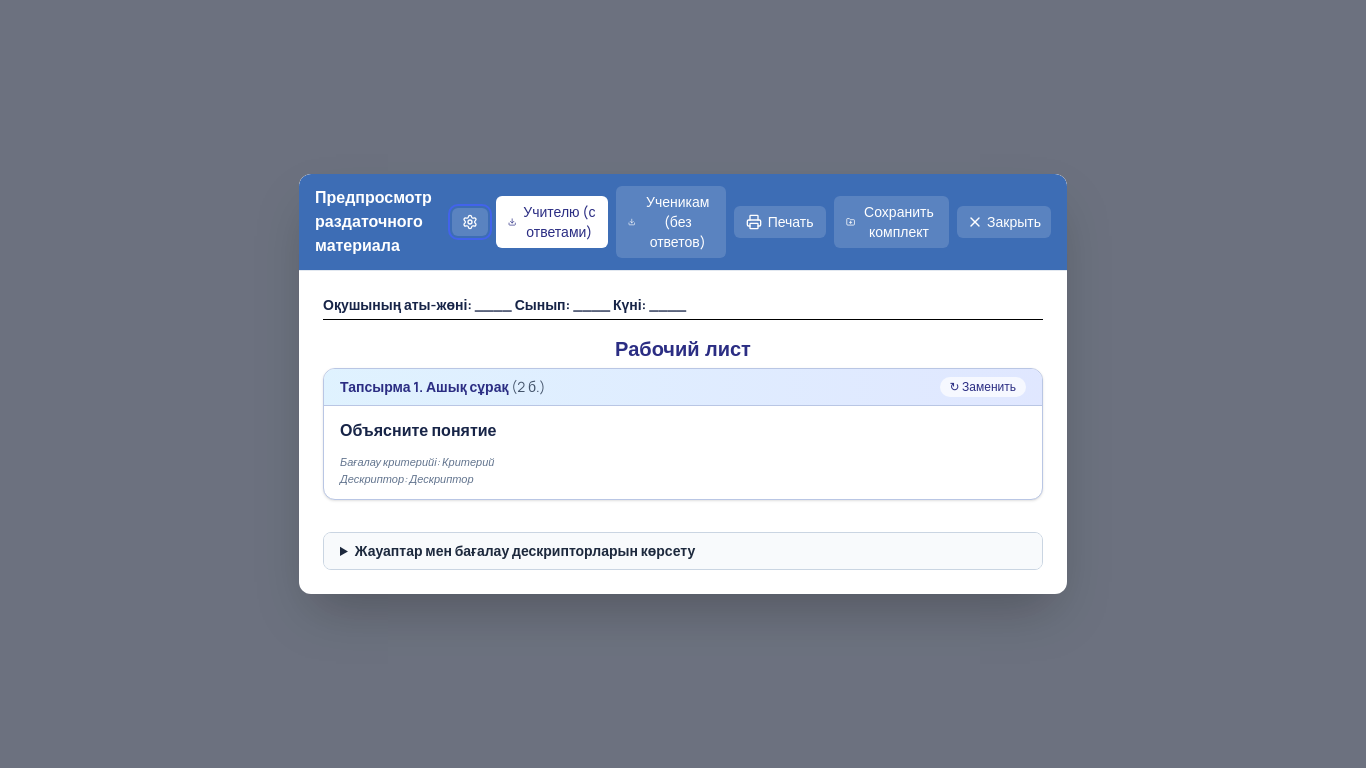
Test: настройки предпросмотра › казахский материал получает казахские подписи настроек
This screenshot has width=1366, height=768.
Click the button titled "Параметрлер": (470, 222) x1=452 y1=208 x2=488 y2=236
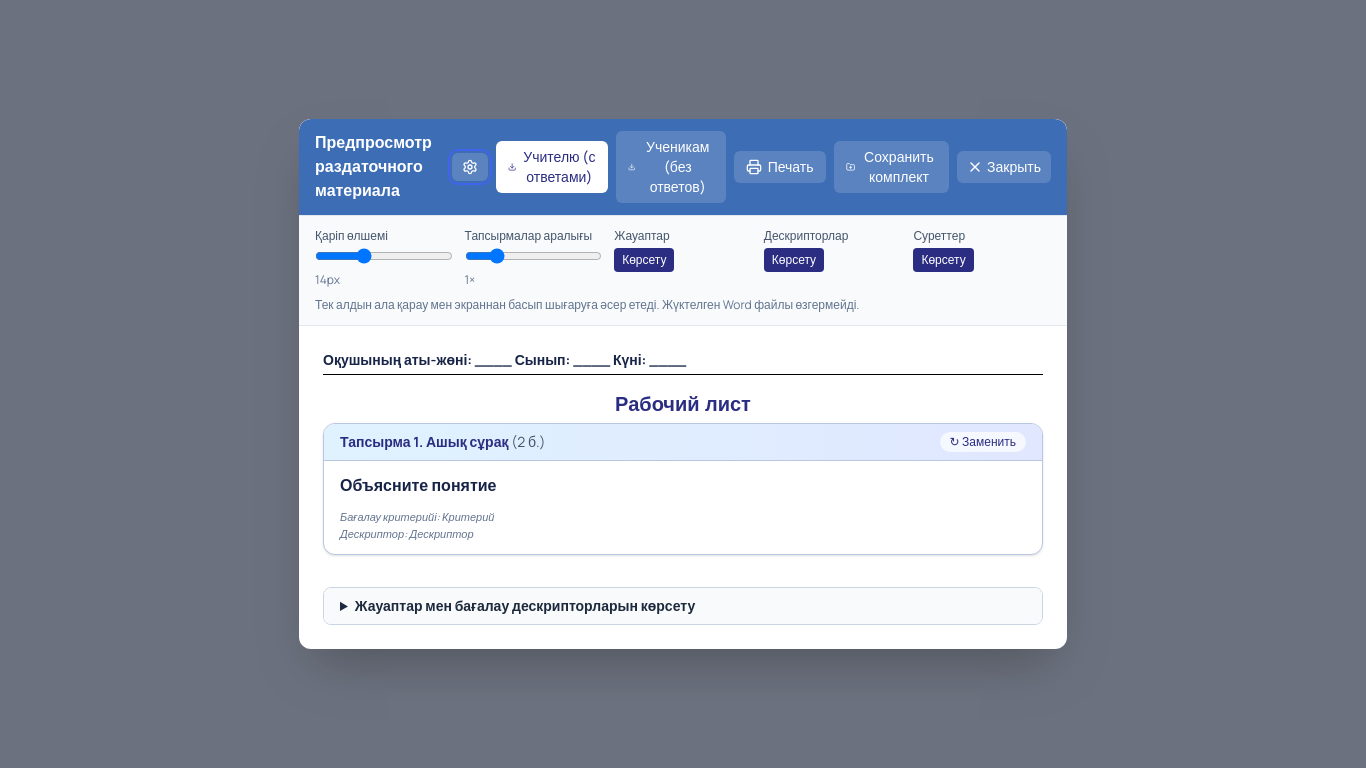
Check: the text "Қаріп өлшемі" is shown, box x1=315 y1=227 x2=388 y2=244
Check: the text "Жүктелген Word файлы өзгермейді" is shown, box x1=315 y1=296 x2=859 y2=313
